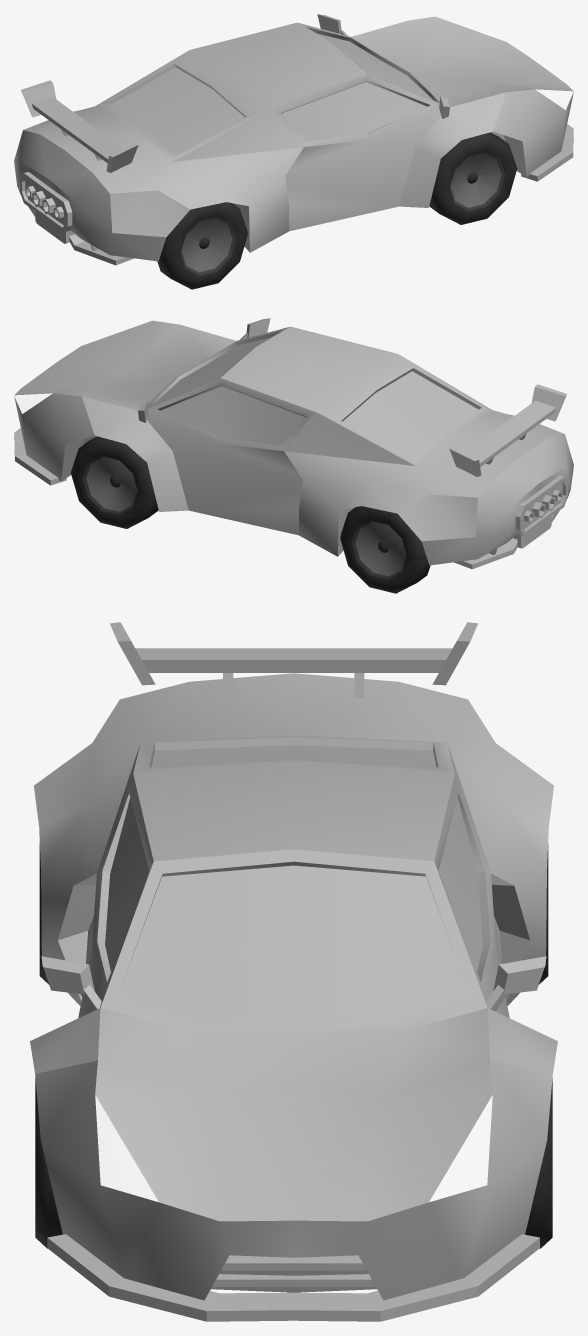
Rendered from lamb.glb.
The picture shows the model from 3 angles, top to bottom: view 1: azimuth 30°, elevation 25°; view 2: azimuth 150°, elevation 25°; view 3: azimuth 270°, elevation 25°; orthographic projection. The views are drawn at different scales.
Visible parts, largest first — view 1: lamb; view 2: lamb; view 3: lamb.
Part boxes in pixels (x1=…): lamb: x1=14, y1=14, x2=573, y2=289; lamb: x1=14, y1=318, x2=573, y2=593; lamb: x1=30, y1=622, x2=557, y2=1321.
Size of the model in its own units: 4.62 by 1.33 by 2.07.
4 materials, 1 textured.
